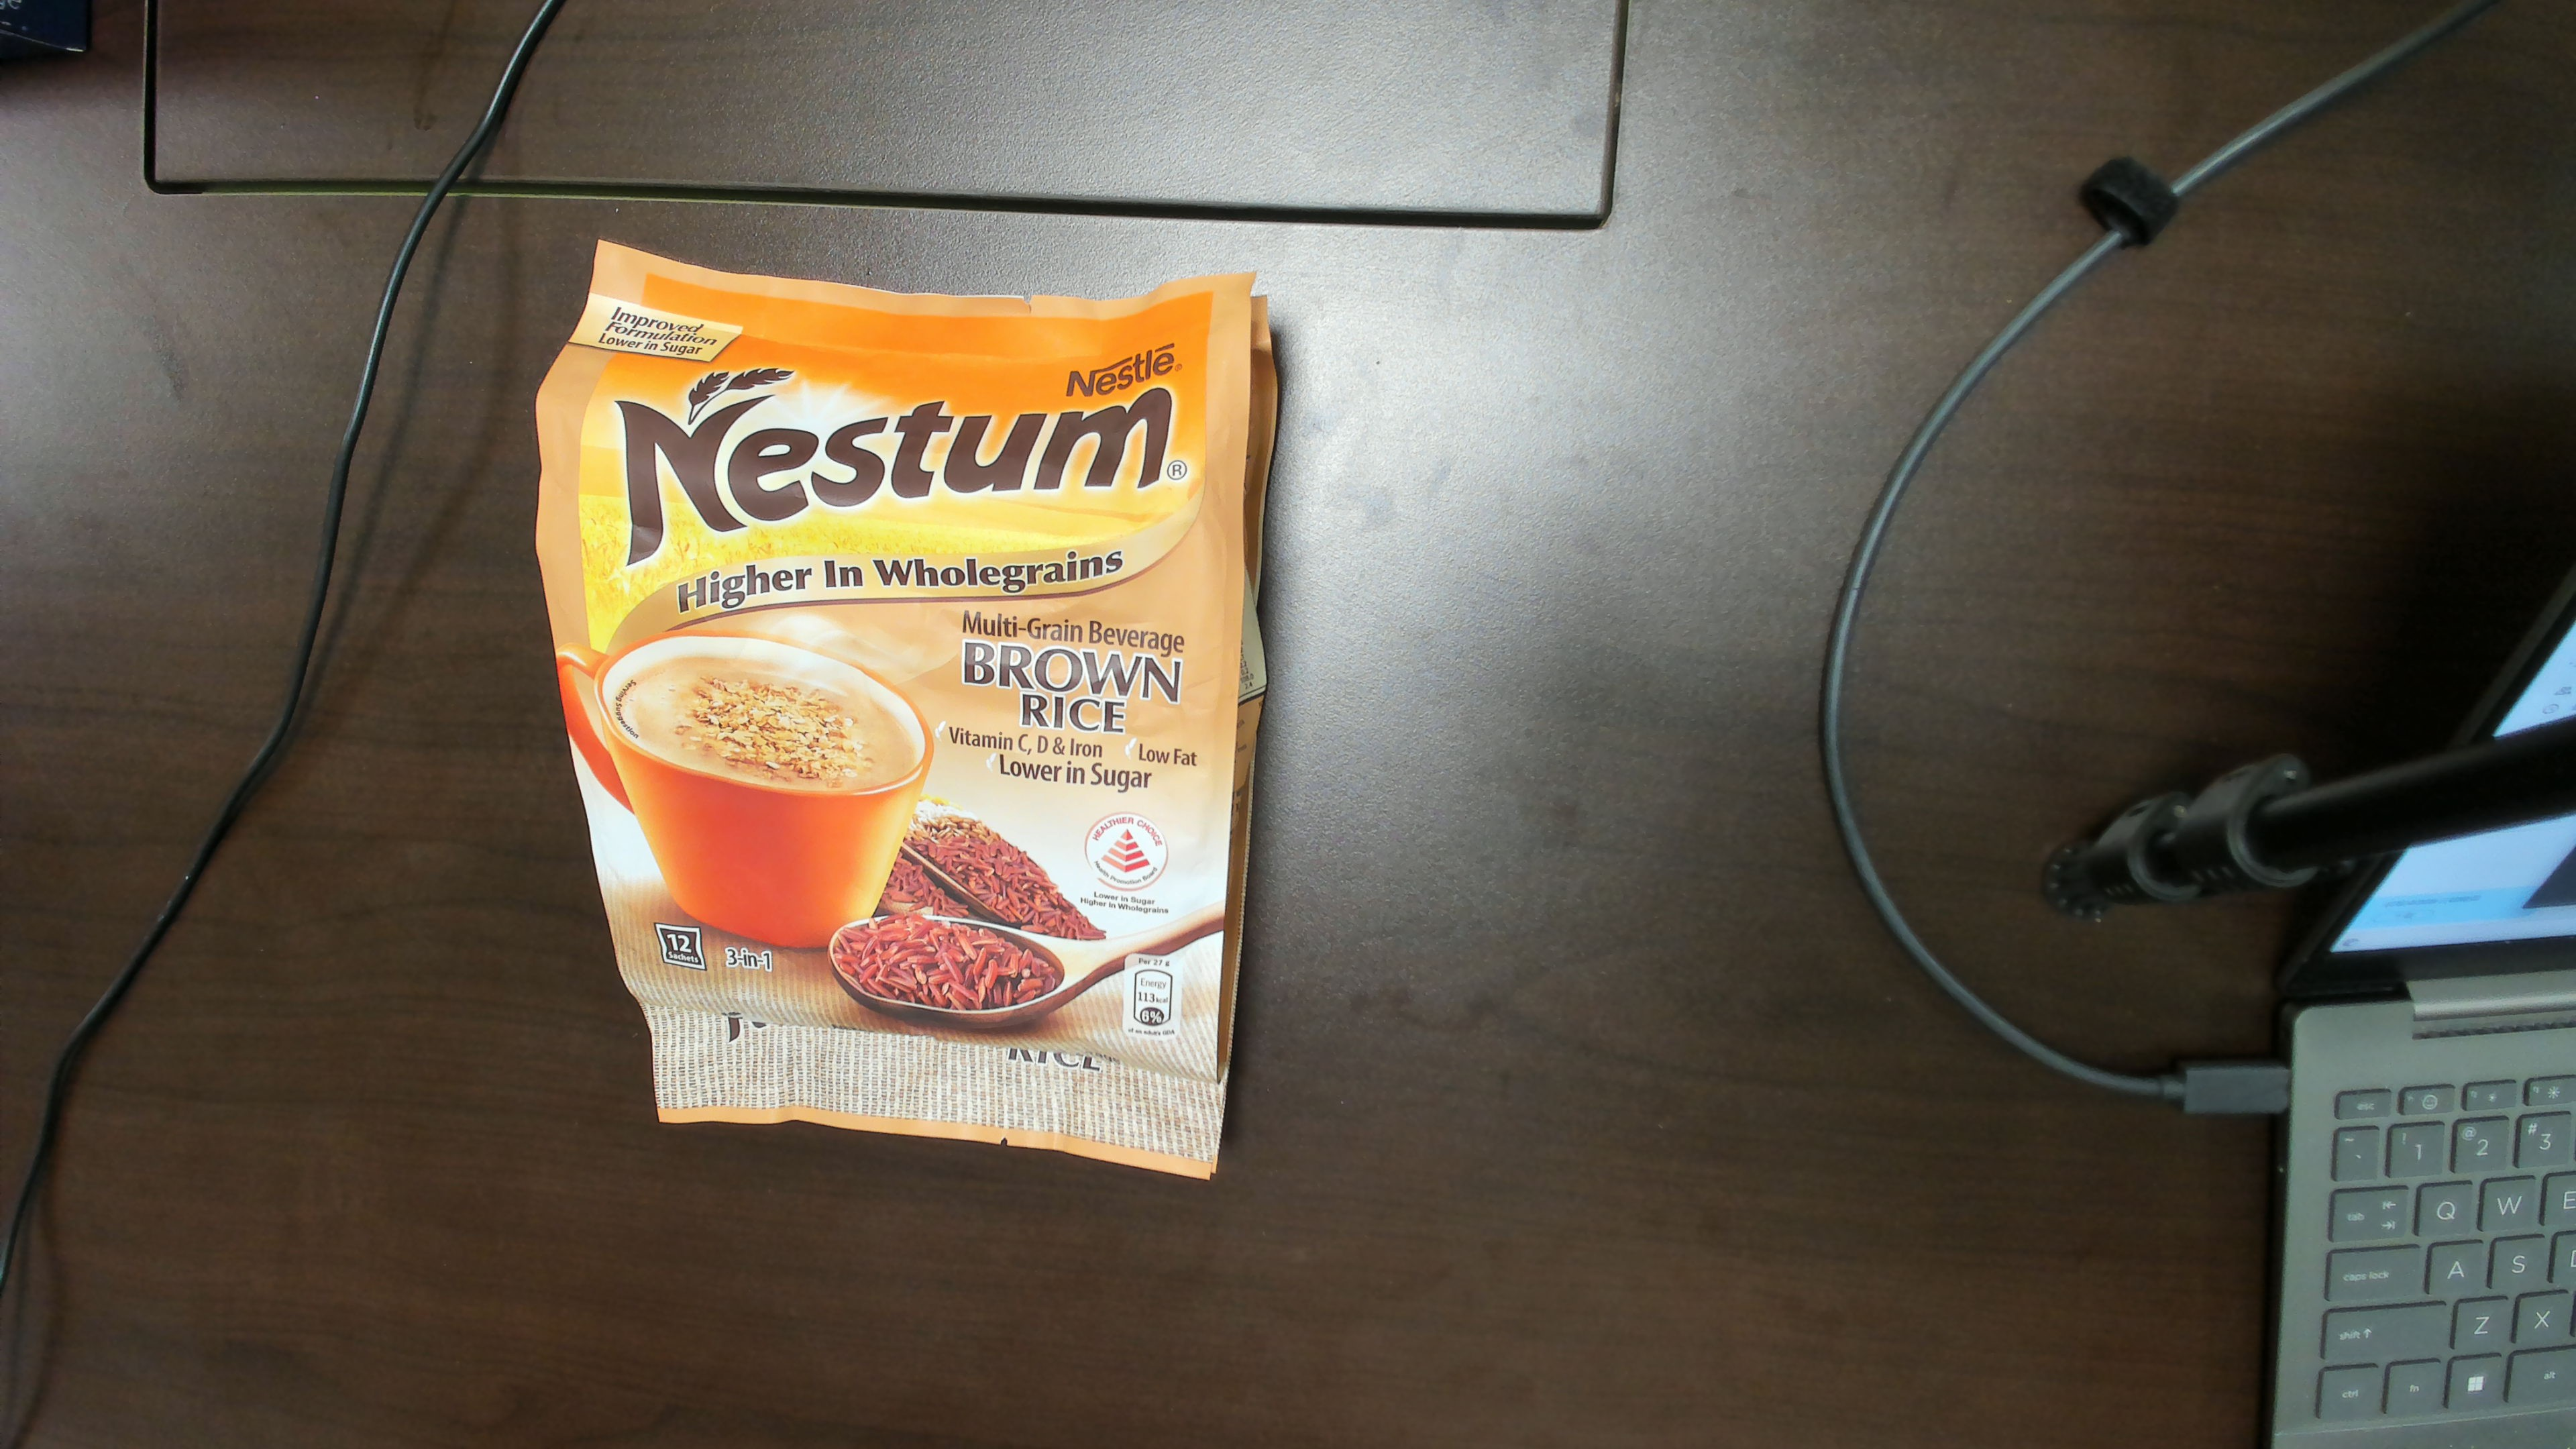CerealBeverage-powder_300-399g_NonHalal_Healthy: (619, 333, 1189, 1047)
